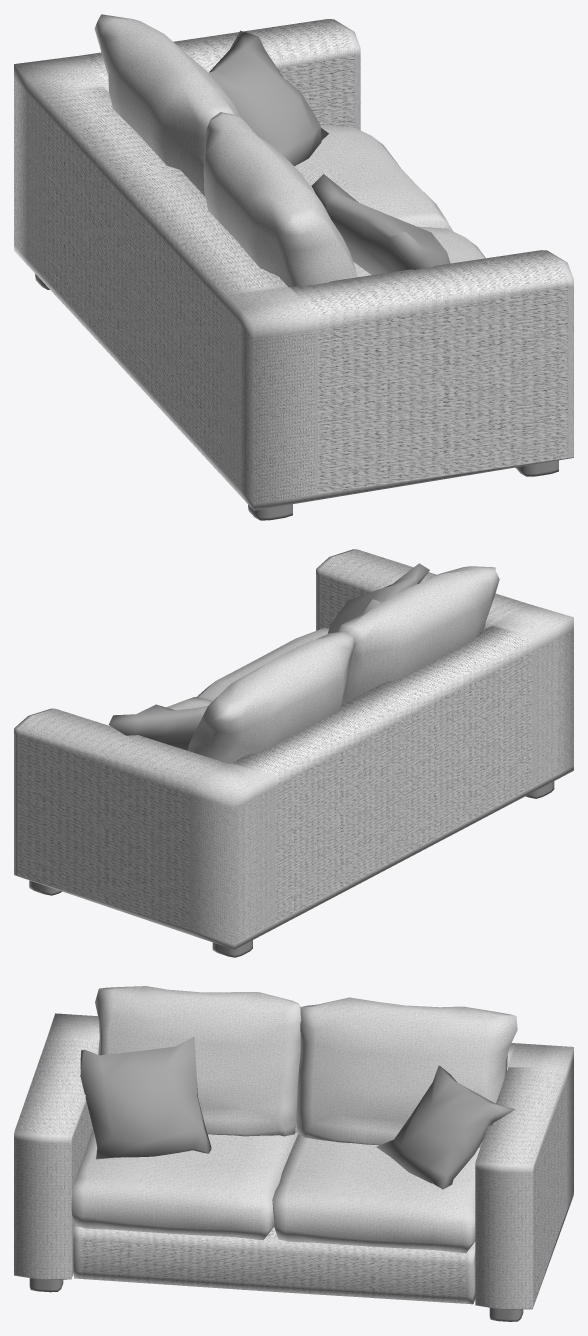
The model's file is couch2.obj.
3 views of the same model, one above another, from view 1: azimuth 30°, elevation 25°; view 2: azimuth 150°, elevation 25°; view 3: azimuth 270°, elevation 25° (orthographic). The views are drawn at different scales.
Bounding box in the file's own units: 4.5 × 3.17 × 7.19.
